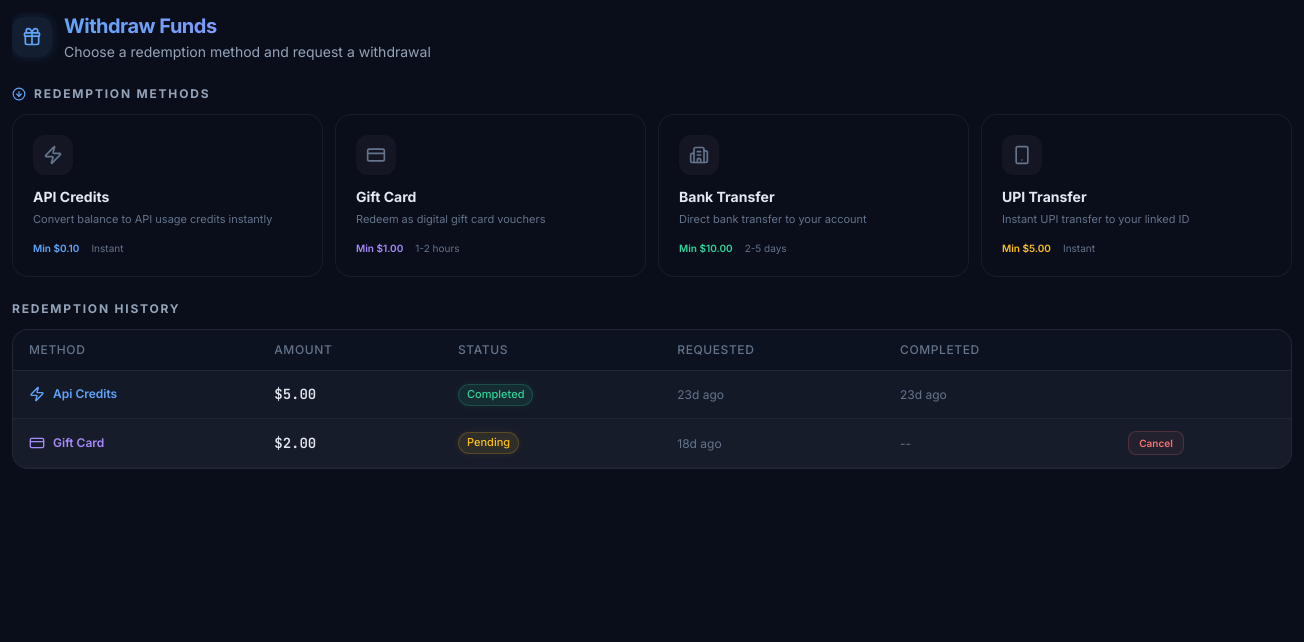
Test: RedeemPage › clears amount when switching between methods
The image size is (1304, 642).
Click the text "API Credits" at (71, 196), box [33,188,109,205]
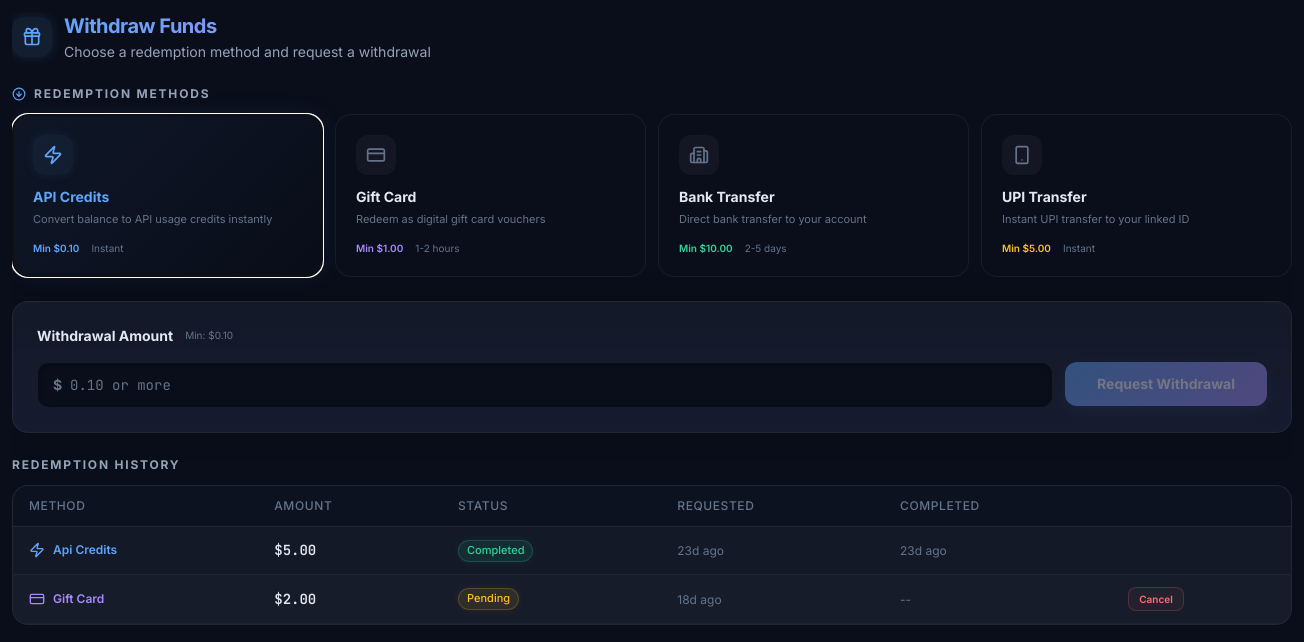
Type "5.00" into the number field with placeholder "0.10 or more" at (545, 385), box [37,362,1053,408]
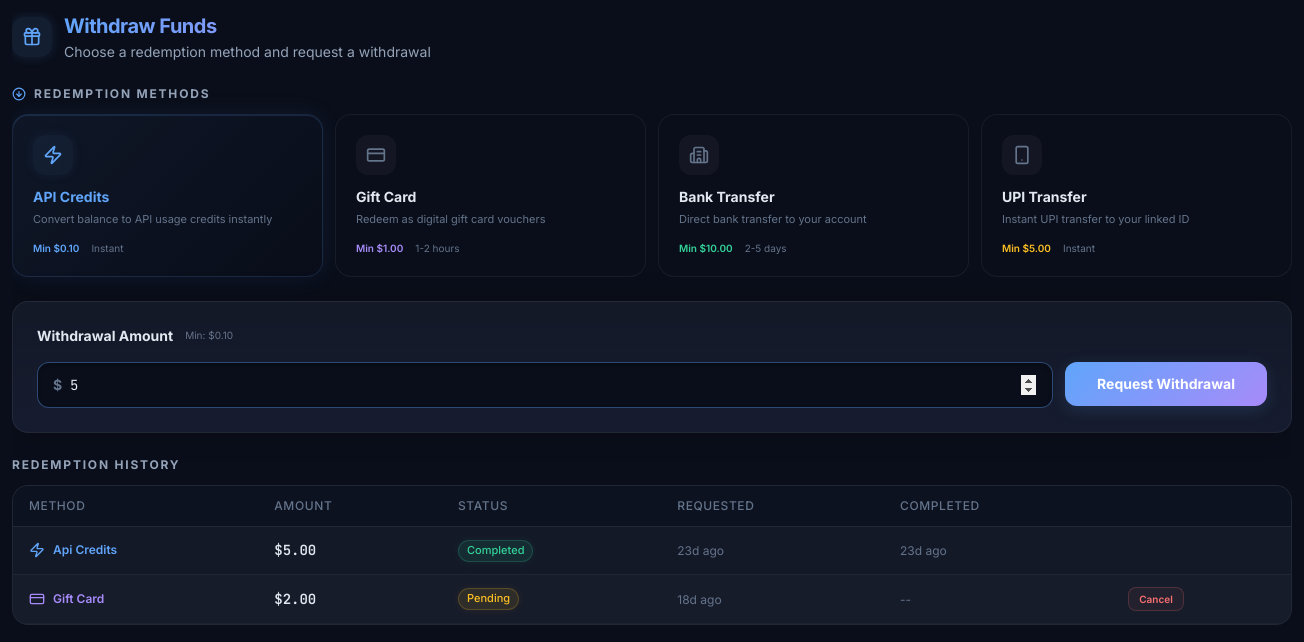
# Switch to Gift Card
Click the text "Gift Card" at (386, 196), box [356,188,416,205]
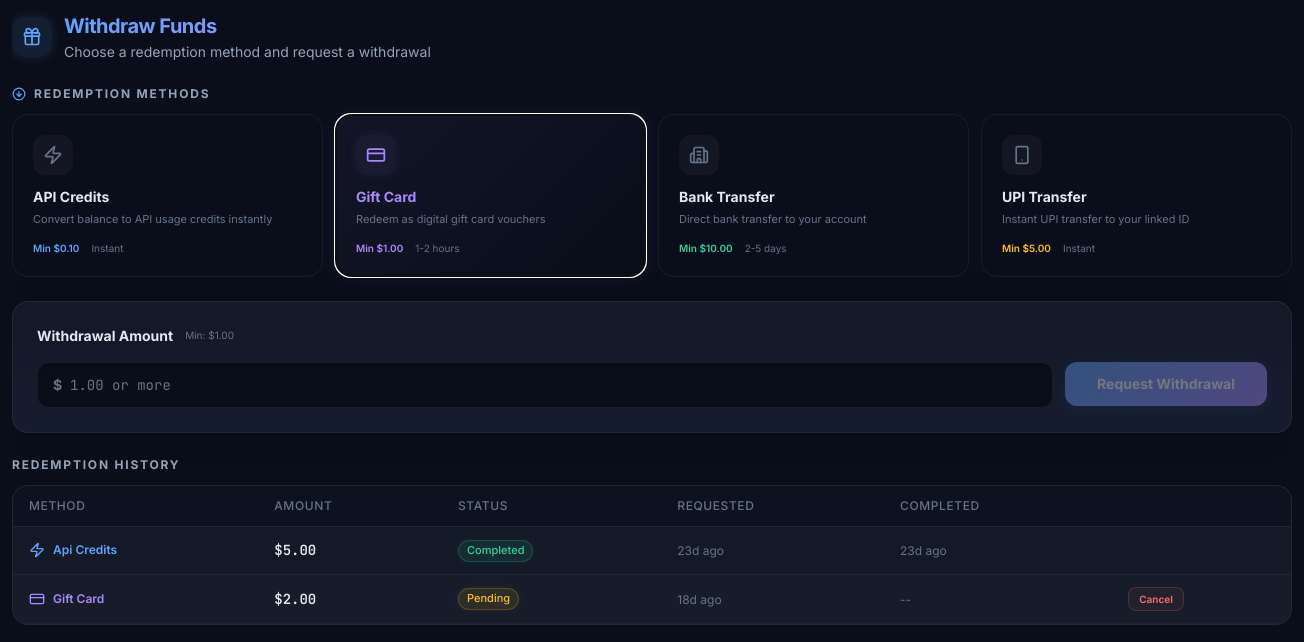
Result: the number field with placeholder "1.00 or more" is not empty at [37,362,1053,408]
